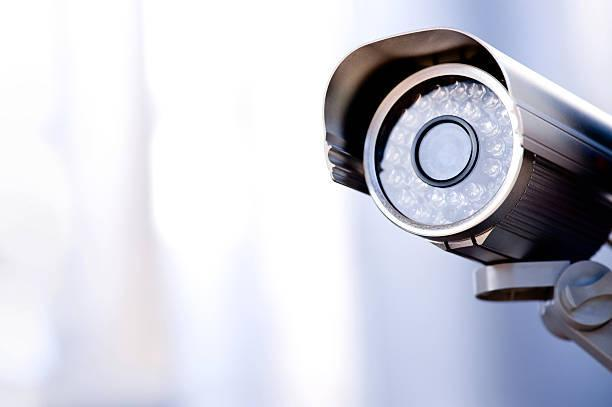camera: (312, 5, 612, 322)
